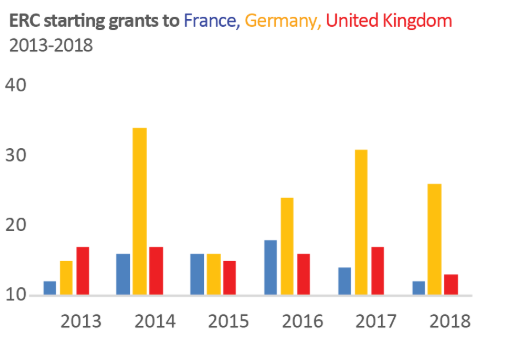S1_AxisNotZero: (9, 7, 506, 335)
